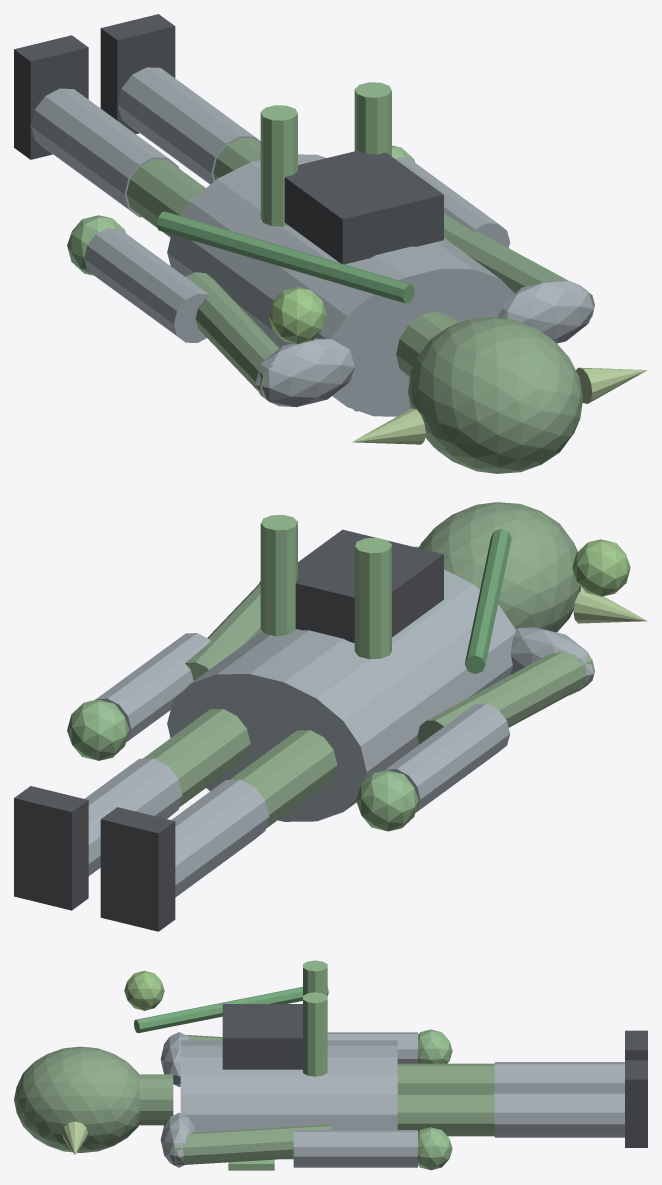
Rendered from SWN-003_tali_reed.glb.
3 views of the same model, one above another, from view 1: azimuth 30°, elevation 25°; view 2: azimuth 150°, elevation 25°; view 3: azimuth 270°, elevation 25° (orthographic). The views are drawn at different scales.
Visible parts, largest first — view 1: body_spine, head, back_thruster_pack, greave_-1, greave_1, forearm_gauntlet_-1, vine_back_arc, boot_-1, shoulder_plate_-1, boot_1, upper_arm_-1, shoulder_plate_1 (+11 smaller); view 2: body_spine, head, back_thruster_pack, boot_-1, boot_1, greave_-1, forearm_gauntlet_-1, upper_arm_-1, thigh_1, thigh_-1, forearm_gauntlet_1, greave_1 (+9 smaller); view 3: body_spine, head, greave_1, back_thruster_pack, forearm_gauntlet_1, thigh_1, greave_-1, upper_arm_1, thigh_-1, vine_back_arc, aether_thruster_1, boot_1 (+11 smaller).
Boxes of the visible parts, bbox=[...] form: body_spine: bbox=[167, 154, 515, 416]; head: bbox=[408, 317, 582, 473]; back_thruster_pack: bbox=[284, 151, 443, 264]; greave_-1: bbox=[30, 88, 178, 217]; greave_1: bbox=[117, 67, 260, 184]; forearm_gauntlet_-1: bbox=[84, 228, 210, 342]; vine_back_arc: bbox=[156, 211, 414, 303]; boot_-1: bbox=[14, 35, 88, 159]; shoulder_plate_-1: bbox=[255, 338, 355, 407]; boot_1: bbox=[100, 14, 175, 133]; upper_arm_-1: bbox=[185, 272, 279, 403]; shoulder_plate_1: bbox=[497, 280, 593, 343]; body_spine: bbox=[167, 569, 515, 821]; head: bbox=[419, 502, 581, 632]; back_thruster_pack: bbox=[295, 529, 443, 642]; boot_-1: bbox=[100, 807, 175, 931]; boot_1: bbox=[14, 786, 88, 910]; greave_-1: bbox=[171, 779, 269, 897]; forearm_gauntlet_-1: bbox=[384, 703, 509, 812]; upper_arm_-1: bbox=[417, 648, 594, 744]; thigh_1: bbox=[143, 709, 250, 806]; thigh_-1: bbox=[230, 730, 337, 828]; forearm_gauntlet_1: bbox=[95, 633, 210, 742]; greave_1: bbox=[84, 758, 182, 875]; body_spine: bbox=[180, 1040, 397, 1159]; head: bbox=[14, 1046, 139, 1152]; greave_1: bbox=[494, 1091, 624, 1137]; back_thruster_pack: bbox=[222, 1004, 302, 1069]; forearm_gauntlet_1: bbox=[293, 1130, 417, 1167]; thigh_1: bbox=[397, 1093, 494, 1136]; greave_-1: bbox=[494, 1062, 624, 1091]; upper_arm_1: bbox=[173, 1124, 330, 1165]; thigh_-1: bbox=[397, 1063, 494, 1092]; vine_back_arc: bbox=[134, 987, 328, 1032]; aether_thruster_1: bbox=[303, 992, 327, 1076]; boot_1: bbox=[625, 1060, 647, 1147].
Bounding box in the file's own units: 0.965 × 0.6775 × 2.19.
